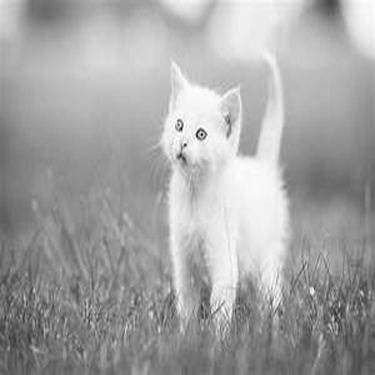cat: (154, 37, 291, 334)
